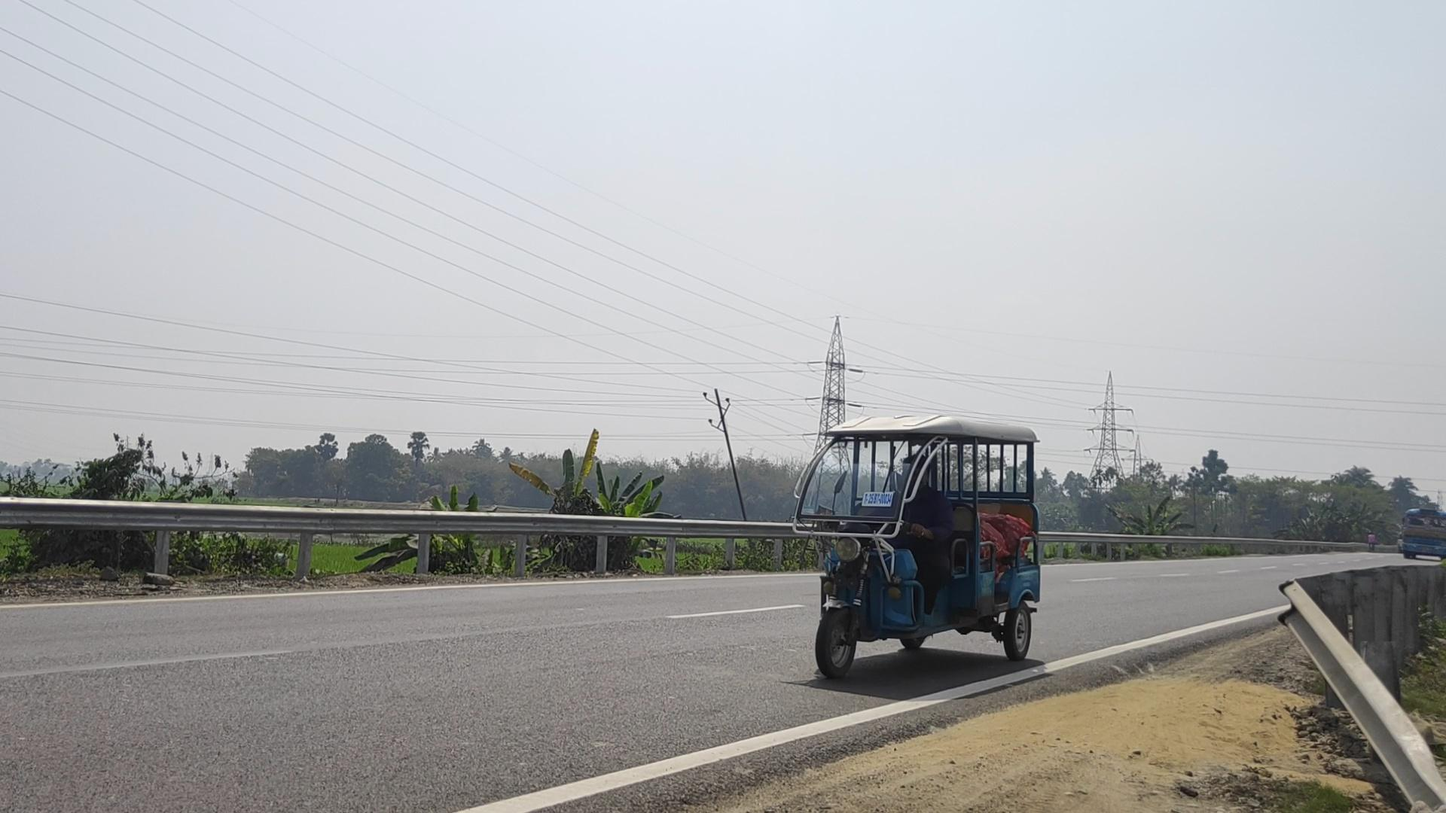Auto: (789, 413, 1042, 680)
Bus: (1402, 507, 1446, 562)
